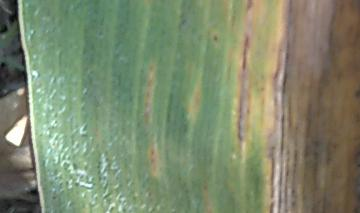tarspot: (244, 1, 255, 14), (352, 87, 360, 98), (149, 146, 156, 157), (211, 33, 219, 42), (178, 18, 187, 26)
